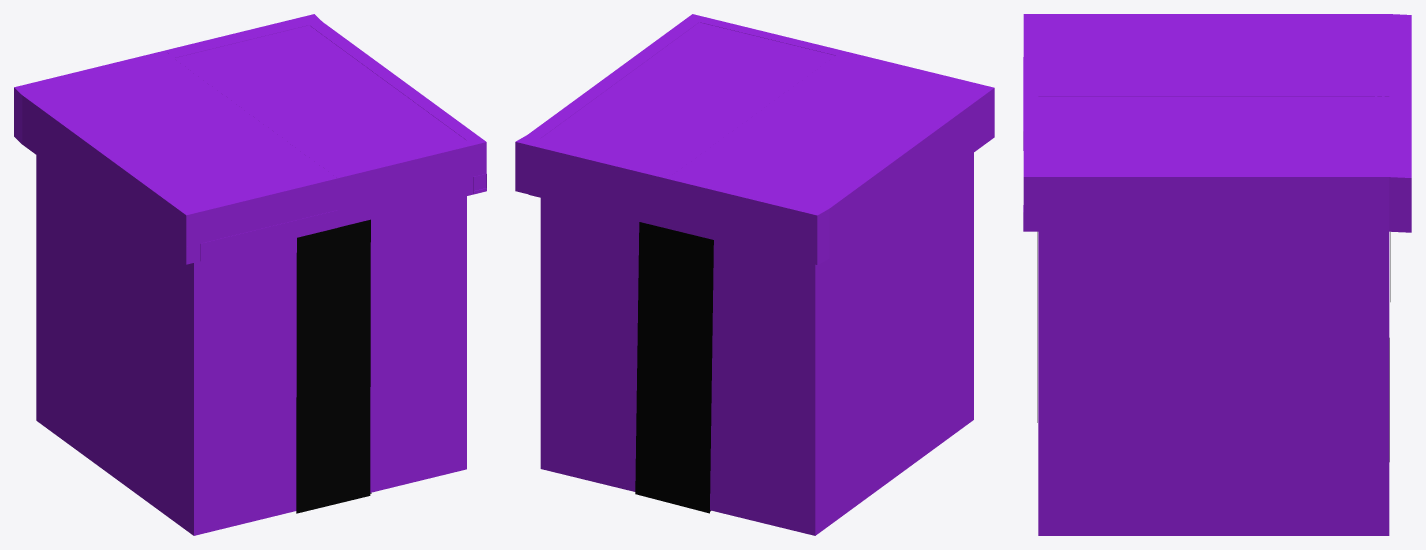
File: gpupackage.fbx
The picture shows the model from 3 angles, left to right: view 1: azimuth 30°, elevation 25°; view 2: azimuth 150°, elevation 25°; view 3: azimuth 270°, elevation 25°; orthographic projection. The views are drawn at different scales.
Parts seen in each view (by area): view 1: Plane.003; view 2: Plane.003; view 3: Plane.003.
Boxes of the visible parts, x1=… form: Plane.003: x1=14, y1=14, x2=486, y2=535; Plane.003: x1=515, y1=14, x2=994, y2=535; Plane.003: x1=1023, y1=14, x2=1411, y2=535.
Size of the model in its own units: 221 by 232 by 221.
